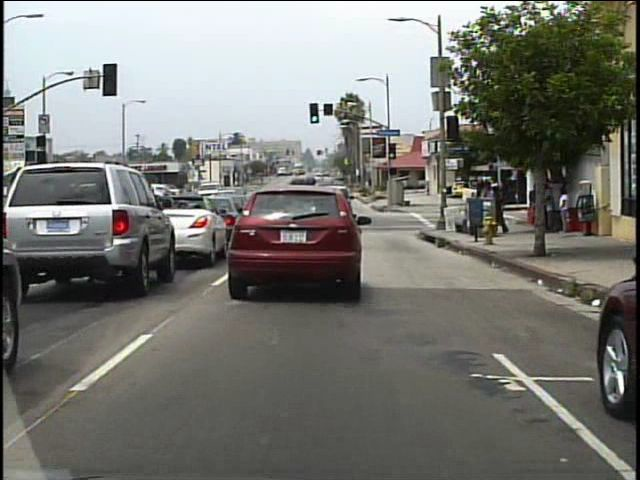person: (497, 182, 510, 235), (558, 187, 572, 234), (528, 183, 541, 222), (546, 182, 547, 235)
